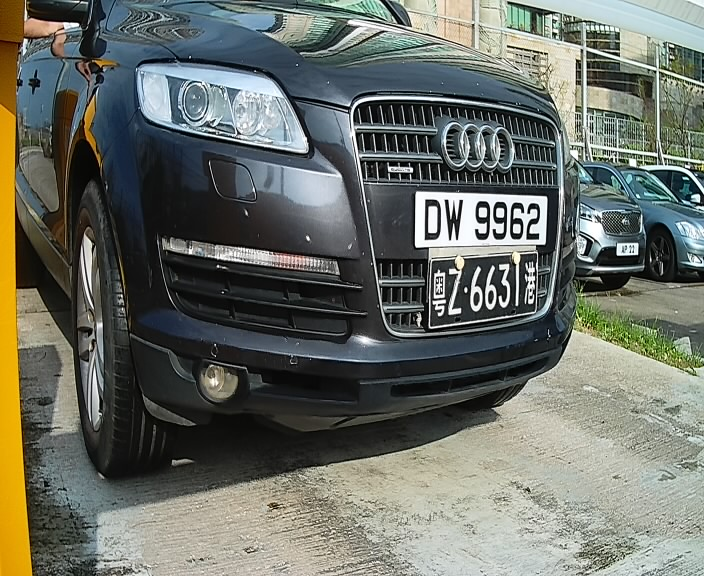Car: (49, 3, 594, 501)
License Plate: (412, 187, 557, 265)
